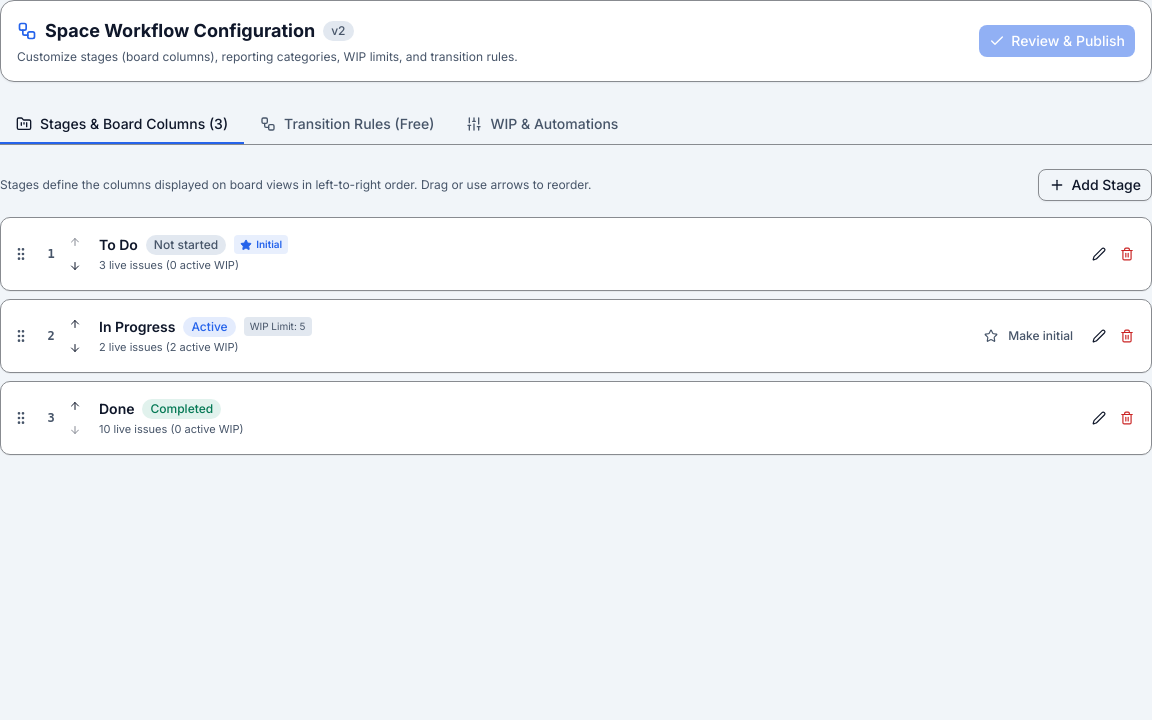
Test: <WorkflowEditor> › allows changing color badge when adding a new stage
Check: the text "To Do" is shown, box [99,235,138,255]
Click the button "Add Stage" at [1095, 185], box [1038,169,1151,201]
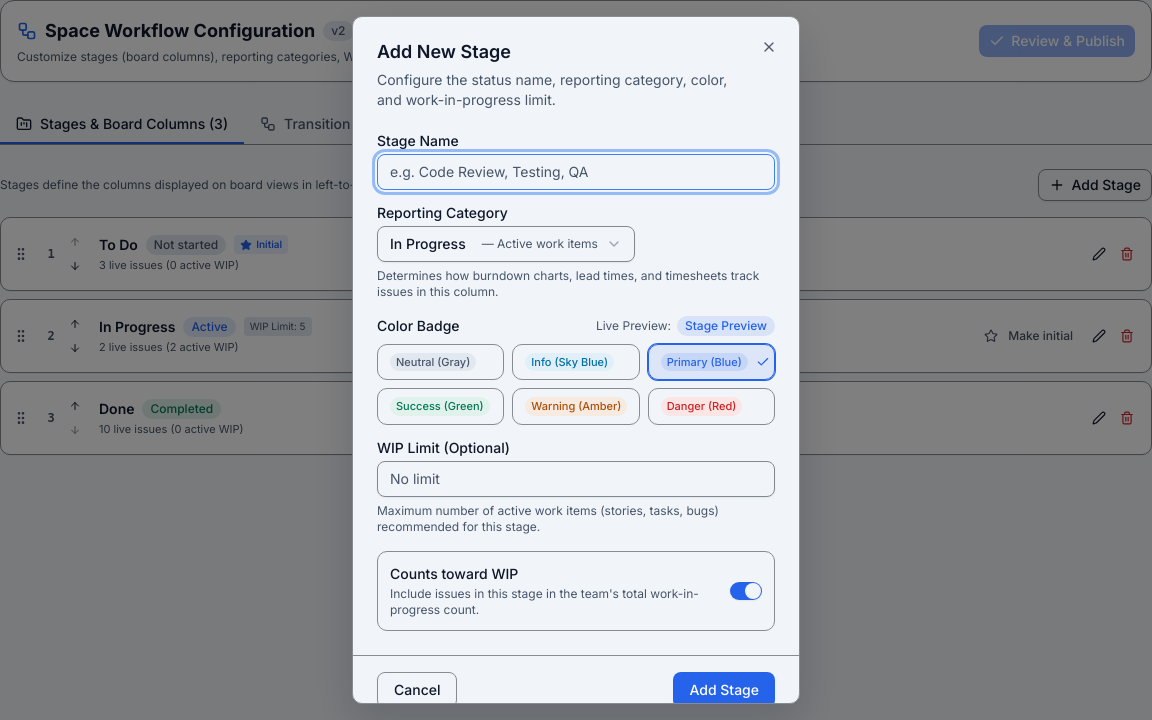
Type "Security Review" into the field labelled "Stage Name" at [576, 172], box [377,154,775,190]
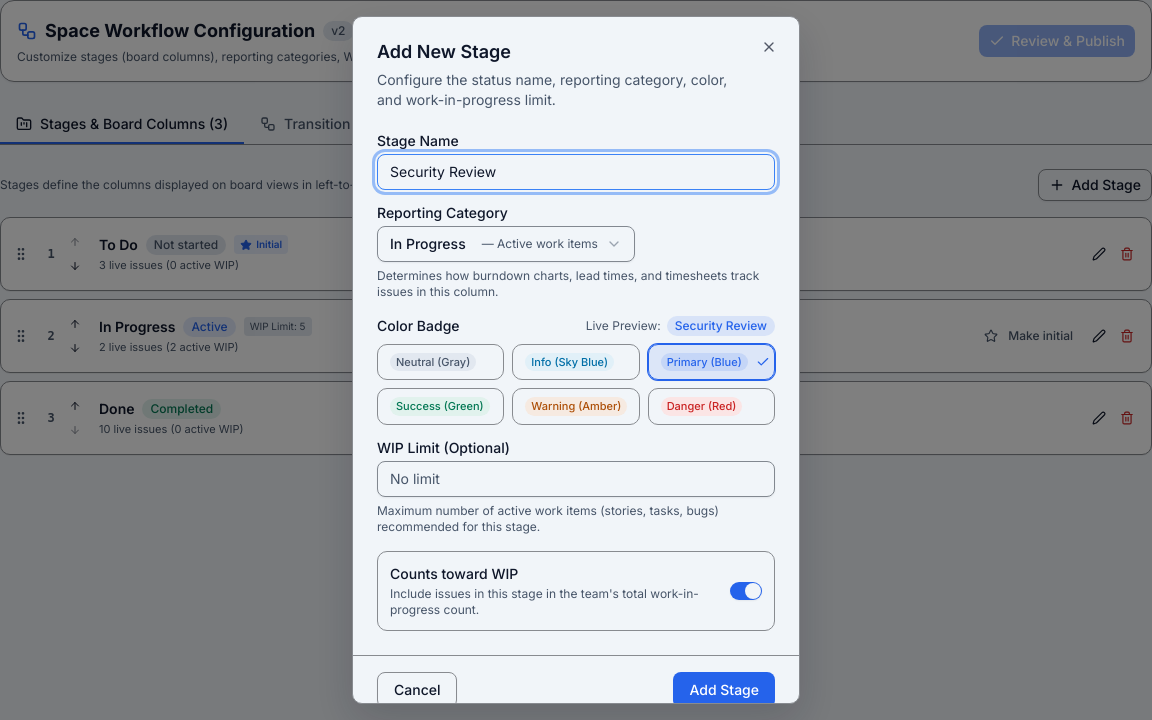
Click the radio button labelled "Warning (Amber)" at [576, 407], box [512,388,640,425]
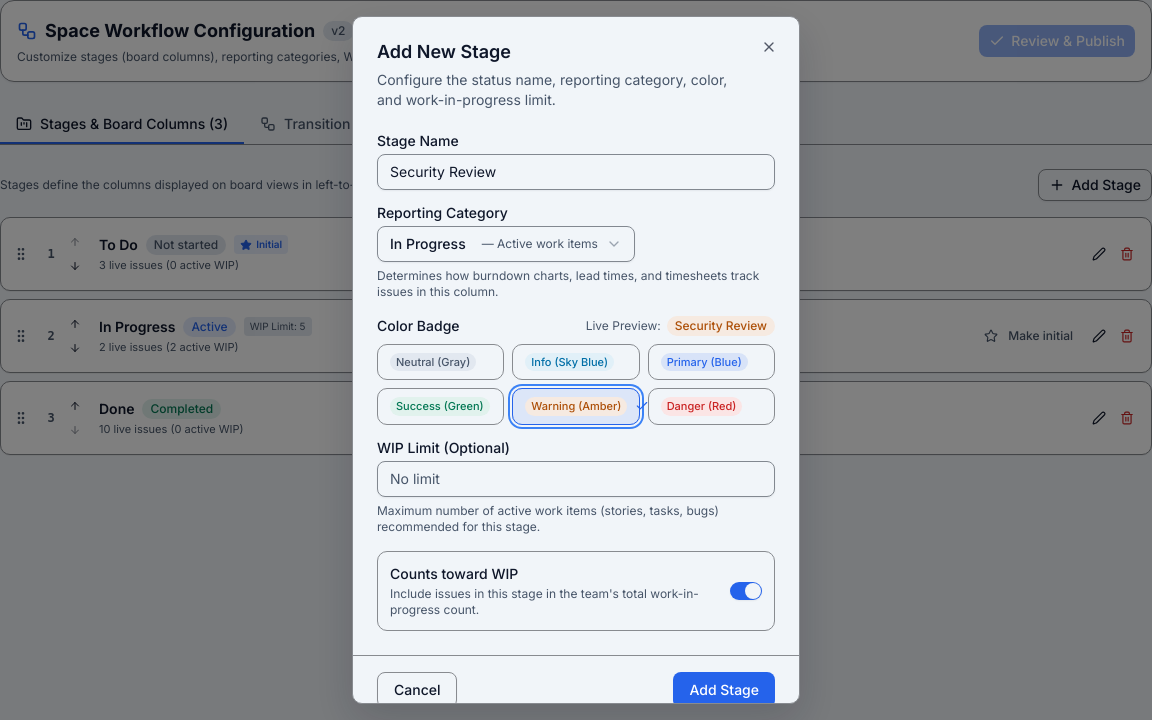
Click the button "Add Stage" at [724, 690], box [673,672,775,708]
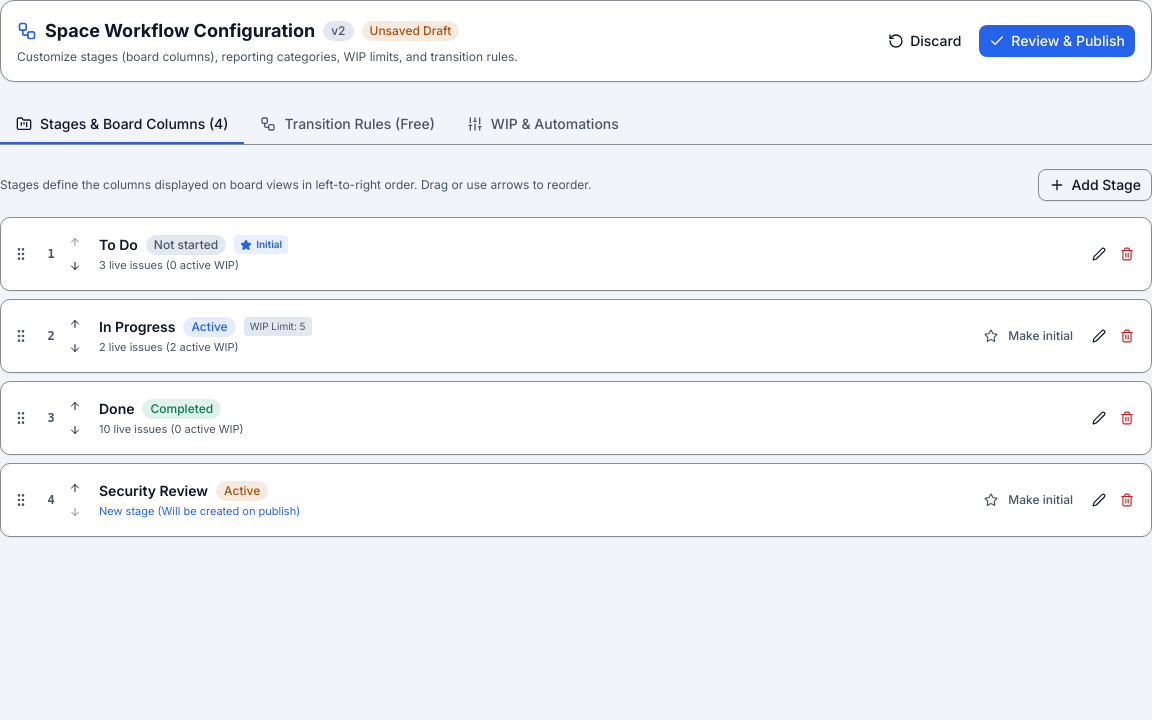
Check: the text "Security Review" is shown, box [99,481,208,501]
Check: the text "Unsaved Draft" is shown, box [362,21,459,41]
